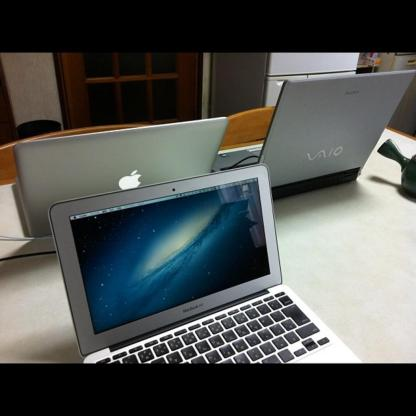board: (46, 161, 359, 363), (210, 68, 415, 202), (13, 117, 227, 240)
